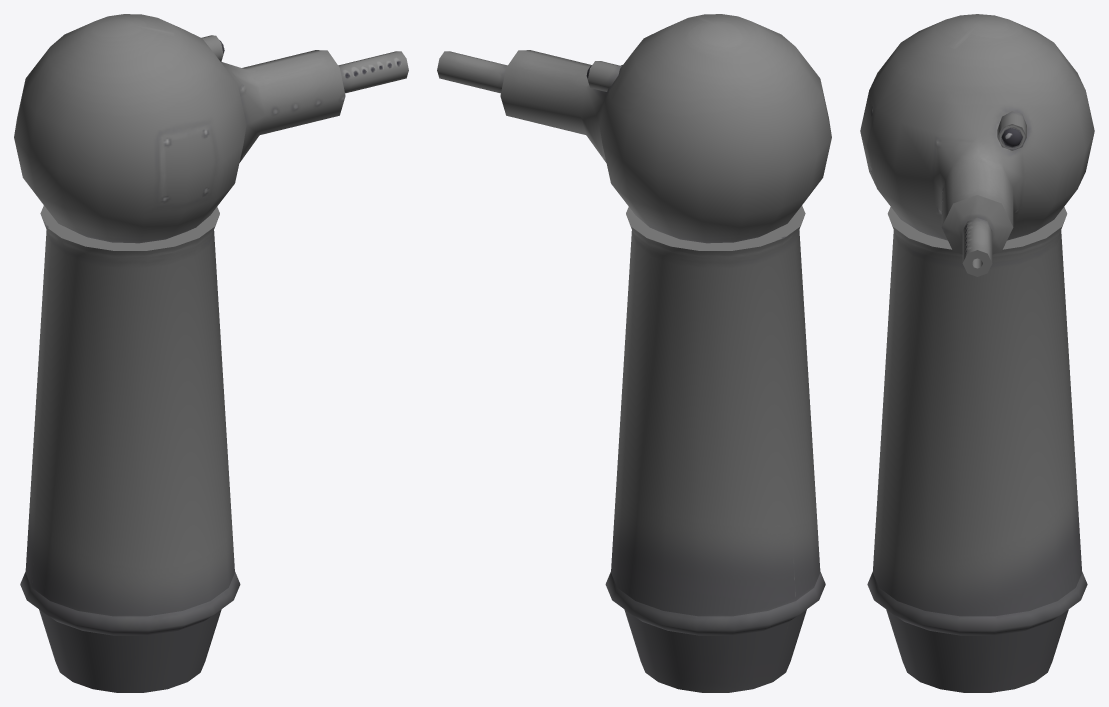
File: turret02.fbx
The picture shows the model from 3 angles, left to right: view 1: azimuth 30°, elevation 25°; view 2: azimuth 150°, elevation 25°; view 3: azimuth 270°, elevation 25°; orthographic projection.
Parts seen in each view (by area): view 1: turret_body, turret_head; view 2: turret_body, turret_head; view 3: turret_body, turret_head.
Part boxes in pixels (left/top/right/bottom): turret_body: left=20, top=205, right=240, bottom=692; turret_head: left=14, top=14, right=408, bottom=243; turret_body: left=605, top=205, right=825, bottom=692; turret_head: left=437, top=14, right=831, bottom=243; turret_body: left=867, top=207, right=1087, bottom=692; turret_head: left=860, top=14, right=1094, bottom=276.
Bounding box in the file's own units: 1.03 × 1.68 × 0.56.
Materials: 1 (1 with a texture image).
